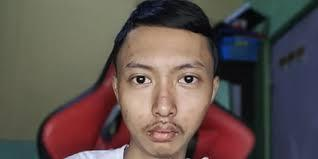Awake: (98, 5, 226, 157)
